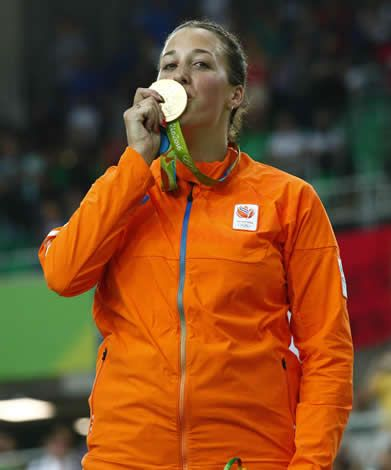face: (156, 25, 228, 126)
